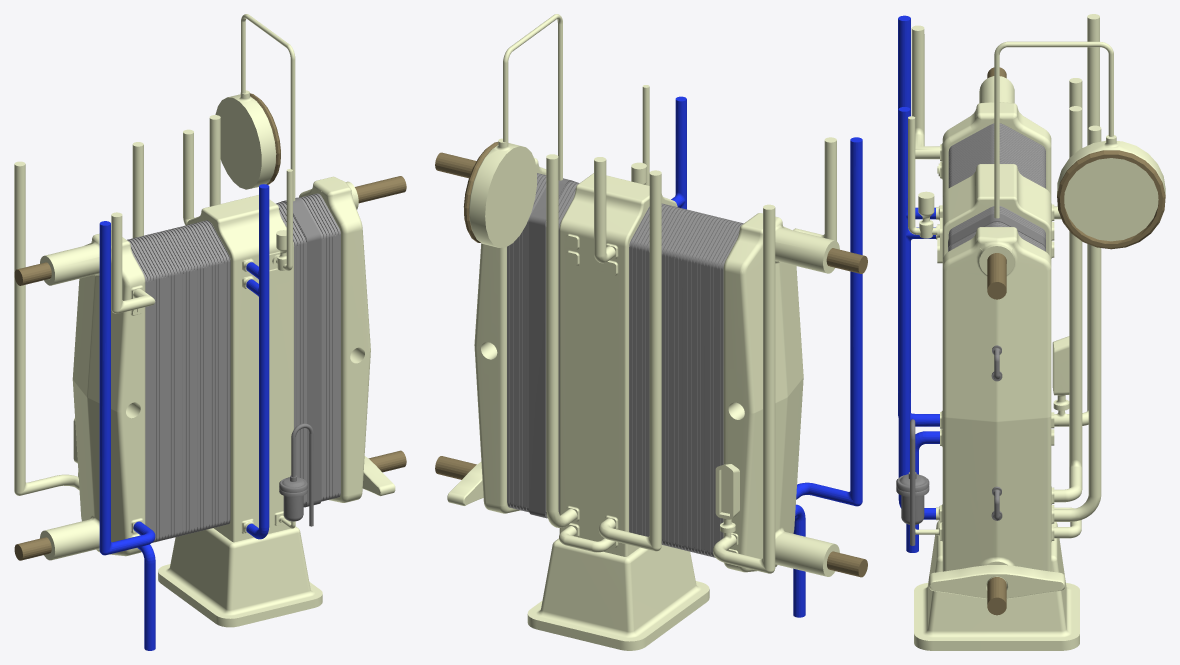
File: plate_pasteurizer.glb
The picture shows the model from 3 angles, left to right: view 1: azimuth 30°, elevation 25°; view 2: azimuth 150°, elevation 25°; view 3: azimuth 270°, elevation 25°; orthographic projection. The views are drawn at different scales.
Parts seen in each view (by area): view 1: Assembly platenpasteur5, platen-2, BLAUWE BUIZEN, ZILVERMETAAL, MESSING; view 2: Assembly platenpasteur5, platen-2, BLAUWE BUIZEN, ZILVERMETAAL, MESSING; view 3: Assembly platenpasteur5, BLAUWE BUIZEN, platen-2, MESSING, ZILVERMETAAL.
Boxes of the visible parts, box(x1,y1,x2,y2) form: Assembly platenpasteur5: box(14, 14, 395, 627); platen-2: box(127, 193, 340, 542); BLAUWE BUIZEN: box(99, 184, 269, 650); ZILVERMETAAL: box(278, 197, 321, 526); MESSING: box(14, 93, 406, 560); Assembly platenpasteur5: box(447, 14, 839, 650); platen-2: box(507, 173, 743, 557); BLAUWE BUIZEN: box(671, 96, 862, 617); ZILVERMETAAL: box(529, 178, 578, 518); MESSING: box(435, 142, 867, 577); Assembly platenpasteur5: box(908, 14, 1165, 650); BLAUWE BUIZEN: box(898, 15, 939, 552); platen-2: box(948, 123, 1045, 251); MESSING: box(987, 67, 1165, 615); ZILVERMETAAL: box(896, 213, 1045, 545).
Size of the model in its own units: 1.97 by 2.61 by 1.04.
